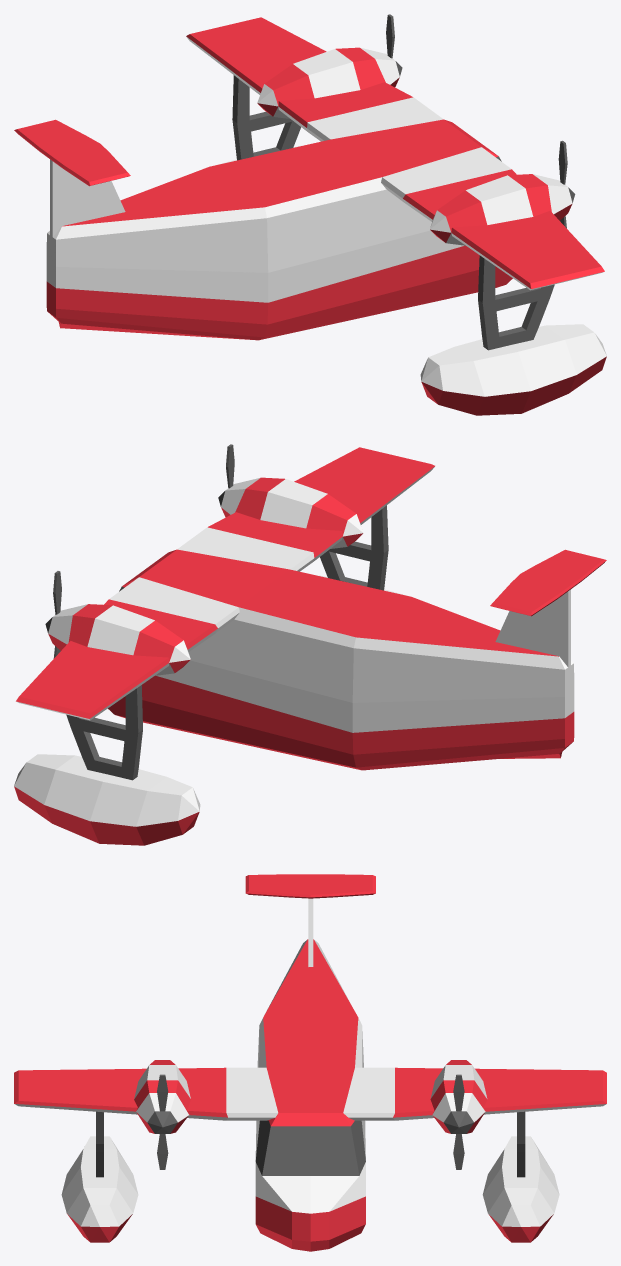
File: modelo_item_aviao.fbx
3 views of the same model, one above another, from view 1: azimuth 30°, elevation 25°; view 2: azimuth 150°, elevation 25°; view 3: azimuth 270°, elevation 25° (orthographic). The views are drawn at different scales.
Visible parts, largest first — view 1: Item Aviao; view 2: Item Aviao; view 3: Item Aviao, Item Aviao Helice 2, Item Aviao Helice 1.
Boxes of the visible parts, <box> form: Item Aviao: <box>14,17,606,415</box>; Item Aviao: <box>14,447,606,845</box>; Item Aviao: <box>14,874,606,1251</box>; Item Aviao Helice 2: <box>453,1074,464,1169</box>; Item Aviao Helice 1: <box>157,1074,168,1169</box>.
Bounding box in the file's own units: 1111 × 512 × 1326.
